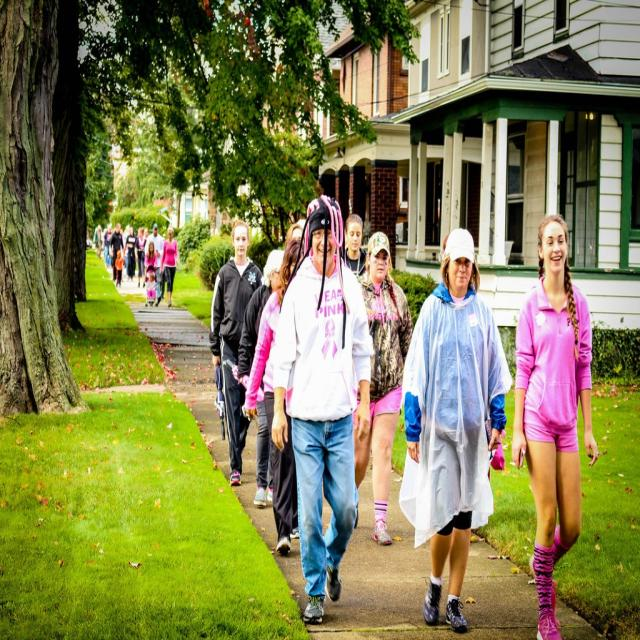body: (396, 225, 515, 635), (270, 192, 376, 629), (509, 211, 601, 639), (241, 238, 306, 558), (355, 231, 414, 550), (206, 218, 266, 488), (236, 246, 286, 508), (158, 224, 180, 308), (340, 213, 368, 277), (144, 222, 164, 300), (109, 223, 125, 283), (133, 226, 147, 288), (125, 226, 138, 284), (143, 240, 158, 283), (284, 222, 305, 252), (283, 222, 305, 250), (92, 223, 134, 237), (113, 249, 126, 290), (103, 225, 114, 267), (92, 224, 104, 260), (142, 227, 150, 279), (145, 272, 156, 307), (162, 271, 166, 302)
